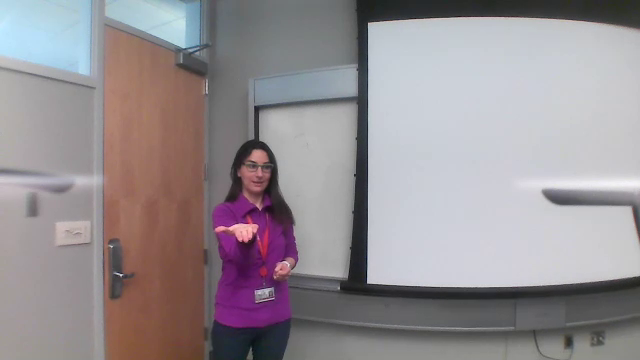land: (212, 221, 263, 250)
